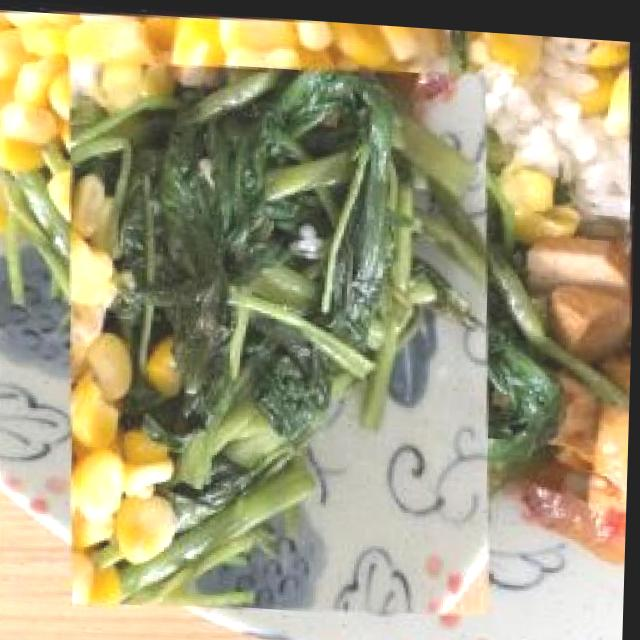water_spinach: (27, 75, 533, 596)
